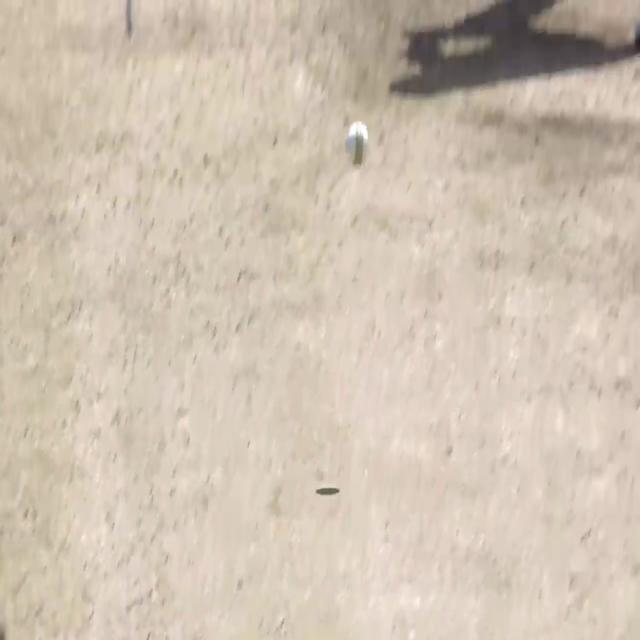ball: (345, 119, 369, 169)
